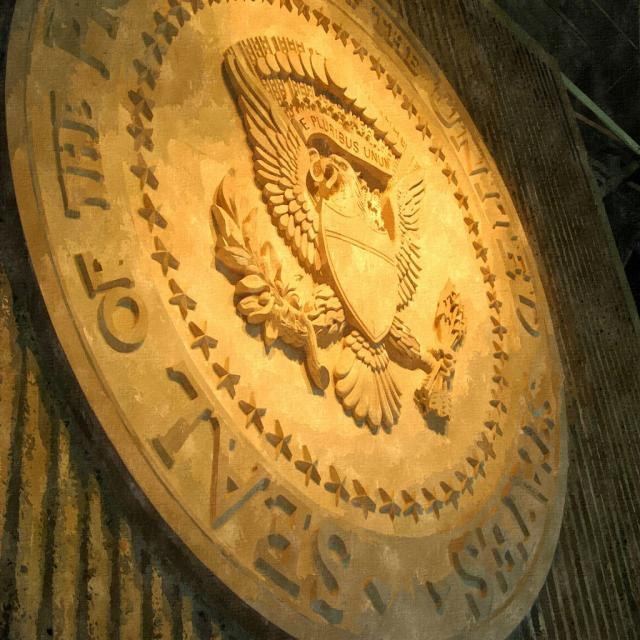Coin: (2, 0, 573, 639)
